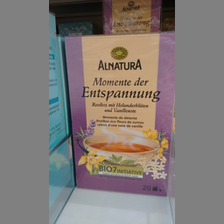tea: (64, 33, 175, 199)
